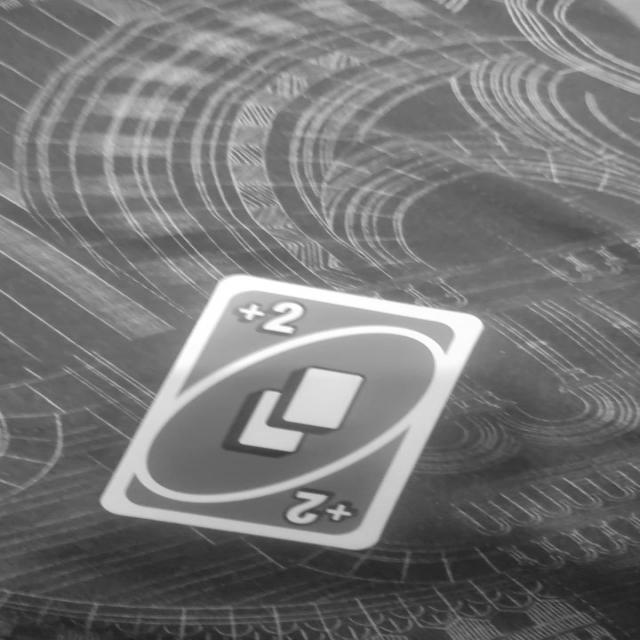card_2-: (98, 274, 484, 550)
